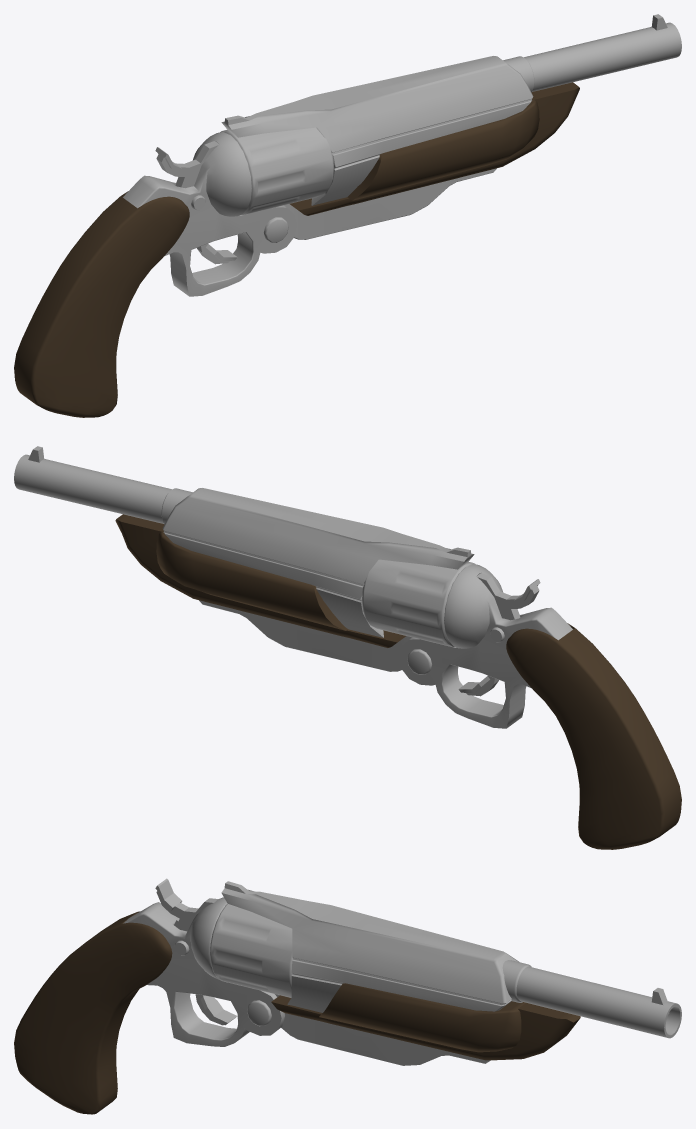
File: Revolver_Ver_1.fbx
3 views of the same model, one above another, from view 1: azimuth 30°, elevation 25°; view 2: azimuth 150°, elevation 25°; view 3: azimuth 330°, elevation 25° (orthographic).
Visible parts, largest first — view 1: polySurface3, Rukoyat, Baraban, Kurok; view 2: polySurface3, Rukoyat, Baraban, Kurok; view 3: polySurface3, Rukoyat, Baraban, Kurok, Kurok1.
Boxes of the visible parts, <box> form: polySurface3: <box>221,14,681,239</box>; Rukoyat: <box>14,132,297,417</box>; Baraban: <box>220,127,333,214</box>; Kurok: <box>155,141,218,188</box>; polySurface3: <box>14,446,474,671</box>; Rukoyat: <box>398,564,681,849</box>; Baraban: <box>362,559,475,646</box>; Kurok: <box>477,573,540,620</box>; polySurface3: <box>221,881,681,1065</box>; Rukoyat: <box>14,897,284,1114</box>; Baraban: <box>210,904,292,997</box>; Kurok: <box>155,878,218,931</box>; Kurok1: <box>195,994,237,1025</box>.
Size of the model in its own units: 19.48 by 7.37 by 2.31.
